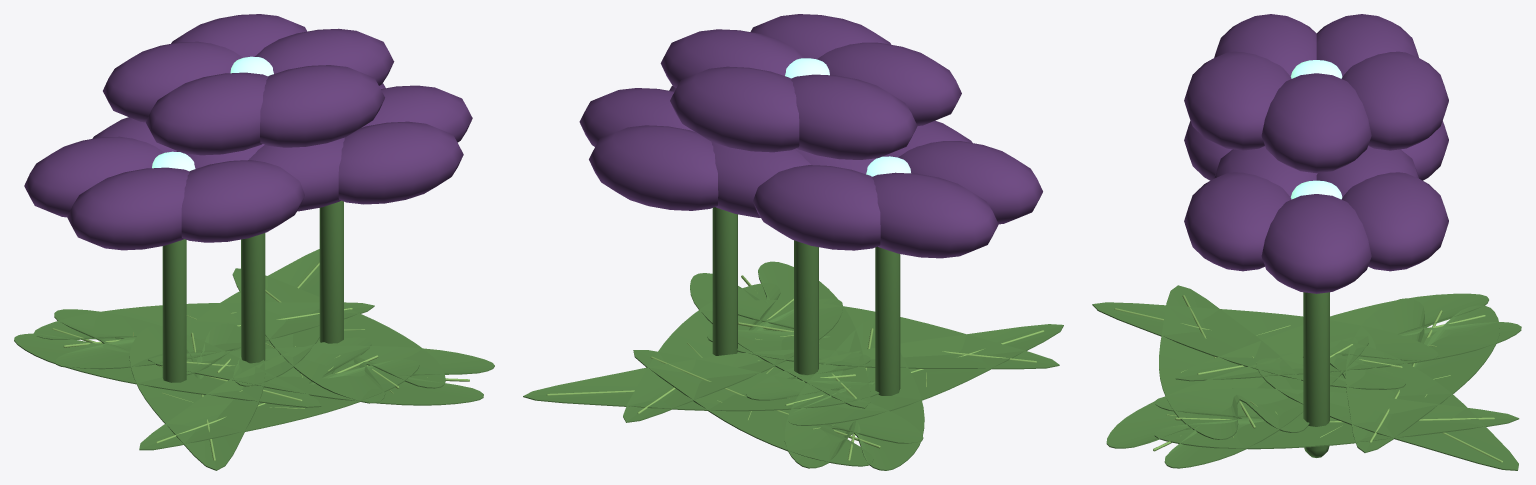
File: lotus_ripe.glb
3 views of the same model, side by side, from view 1: azimuth 30°, elevation 25°; view 2: azimuth 150°, elevation 25°; view 3: azimuth 270°, elevation 25° (orthographic). The views are drawn at different scales.
Parts seen in each view (by area): view 1: Petal.006, Petal.011, Petal.001, Petal.002, Petal.007, Broad_shaped_leaf.002, Broad_shaped_leaf.004, Broad_shaped_leaf, Broad_shaped_leaf.003, Broad_shaped_leaf.001, Broad_shaped_leaf.005, Petal.003 (+13 smaller); view 2: Petal.009, Petal.014, Petal.004, Petal.003, Petal.008, Broad_shaped_leaf.005, Broad_shaped_leaf.003, Broad_shaped_leaf.006, Broad_shaped_leaf, Broad_shaped_leaf.002, Petal.007, Petal.002 (+13 smaller); view 3: Broad_shaped_leaf, Petal.005, Petal.010, Broad_shaped_leaf.005, Broad_shaped_leaf.002, Broad_shaped_leaf.003, Petal.014, Petal.009, Petal.006, Petal.011, Broad_shaped_leaf.004, Broad_shaped_leaf.006 (+10 smaller).
Boxes of the visible parts, <box> form: Petal.006: <box>260,65,384,147</box>; Petal.011: <box>338,121,463,204</box>; Petal.001: <box>181,160,304,242</box>; Petal.002: <box>67,167,189,250</box>; Petal.007: <box>146,72,267,155</box>; Broad_shaped_leaf.002: <box>139,337,419,450</box>; Broad_shaped_leaf.004: <box>14,309,321,407</box>; Broad_shaped_leaf: <box>232,268,445,403</box>; Broad_shaped_leaf.003: <box>129,323,265,470</box>; Broad_shaped_leaf.001: <box>148,345,494,405</box>; Broad_shaped_leaf.005: <box>33,302,374,369</box>; Petal.003: <box>24,136,164,217</box>; Petal.009: <box>670,66,799,152</box>; Petal.014: <box>589,125,718,210</box>; Petal.004: <box>753,165,880,250</box>; Petal.003: <box>872,172,998,258</box>; Petal.008: <box>791,74,917,159</box>; Broad_shaped_leaf.005: <box>633,350,923,466</box>; Broad_shaped_leaf.003: <box>746,324,1063,425</box>; Broad_shaped_leaf.006: <box>523,349,879,411</box>; Broad_shaped_leaf: <box>623,283,843,422</box>; Broad_shaped_leaf.002: <box>707,300,1059,369</box>; Petal.007: <box>817,42,961,125</box>; Petal.002: <box>898,141,1042,224</box>; Broad_shaped_leaf: <box>1154,388,1519,449</box>; Petal.005: <box>1261,73,1371,173</box>; Petal.010: <box>1261,194,1371,293</box>; Broad_shaped_leaf.005: <box>1345,298,1499,452</box>; Broad_shaped_leaf.002: <box>1159,285,1309,439</box>; Broad_shaped_leaf.003: <box>1092,302,1438,389</box>; Petal.014: <box>1341,172,1448,271</box>; Petal.009: <box>1341,51,1448,150</box>; Petal.006: <box>1184,51,1291,150</box>; Petal.011: <box>1184,172,1291,271</box>; Broad_shaped_leaf.004: <box>1175,293,1521,381</box>; Broad_shaped_leaf.006: <box>1256,338,1518,470</box>.
Bounding box in the file's own units: 0.6899 × 0.538 × 0.5823.
